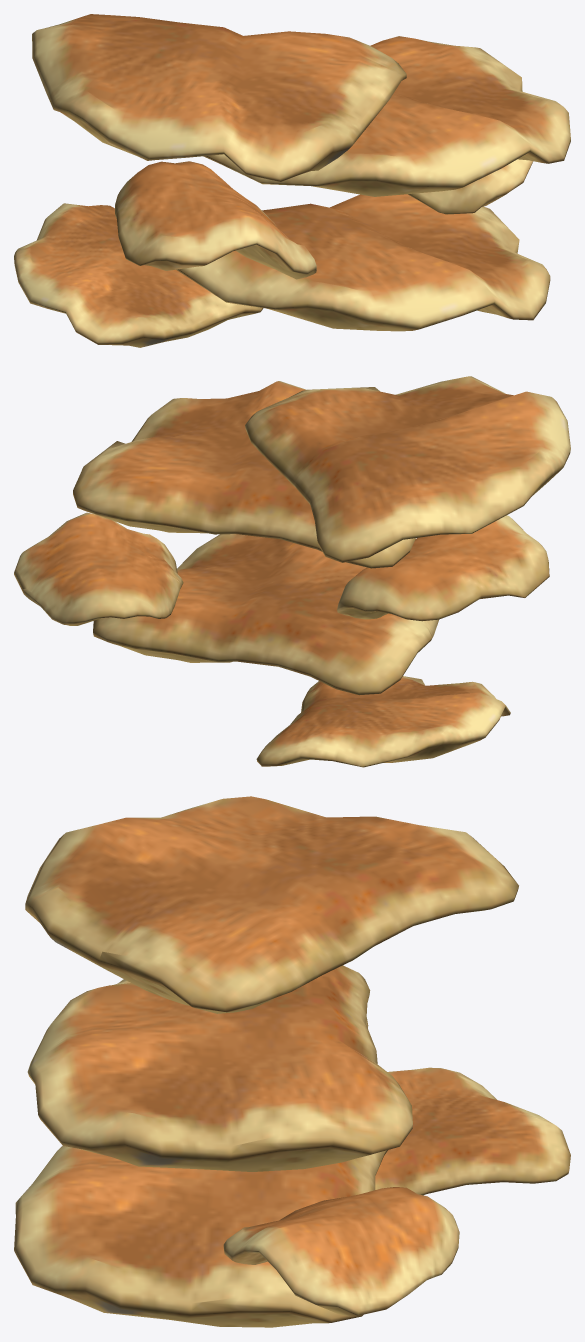
Rendered from Mushroom_Laetiporus.glb.
3 renders of one model, top to bottom at view 1: azimuth 30°, elevation 25°; view 2: azimuth 150°, elevation 25°; view 3: azimuth 270°, elevation 25°, orthographic. The views are drawn at different scales.
Parts seen in each view (by area): view 1: Mushroom_Laetiporus; view 2: Mushroom_Laetiporus; view 3: Mushroom_Laetiporus.
Boxes of the visible parts, x1,y1,x2,y2 form: Mushroom_Laetiporus: [14, 14, 570, 347]; Mushroom_Laetiporus: [14, 376, 570, 767]; Mushroom_Laetiporus: [14, 796, 570, 1327].
Bounding box in the file's own units: 1.37 × 0.767 × 1.1.
Materials: 1 (1 with a texture image).
